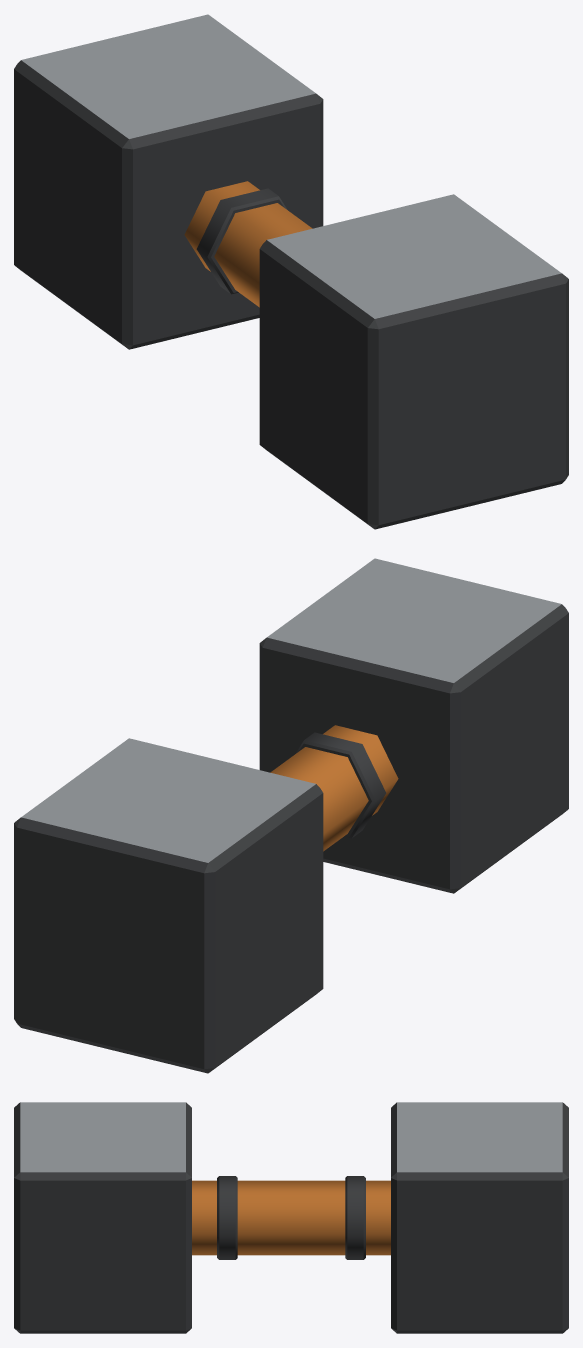
The model's file is R4C_STRUT_STANDARD_LOD1.fbx.
3 renders of one model, top to bottom at view 1: azimuth 30°, elevation 25°; view 2: azimuth 150°, elevation 25°; view 3: azimuth 270°, elevation 25°, orthographic. The views are drawn at different scales.
Parts seen in each view (by area): view 1: R4C_STRUT_STANDARD_LOD1; view 2: R4C_STRUT_STANDARD_LOD1; view 3: R4C_STRUT_STANDARD_LOD1.
Part boxes in pixels (x1,y1,x2,y2): R4C_STRUT_STANDARD_LOD1: [14, 14, 568, 529]; R4C_STRUT_STANDARD_LOD1: [14, 558, 568, 1073]; R4C_STRUT_STANDARD_LOD1: [14, 1102, 568, 1333].
Size of the model in its own units: 0.52 by 0.52 by 1.62.
